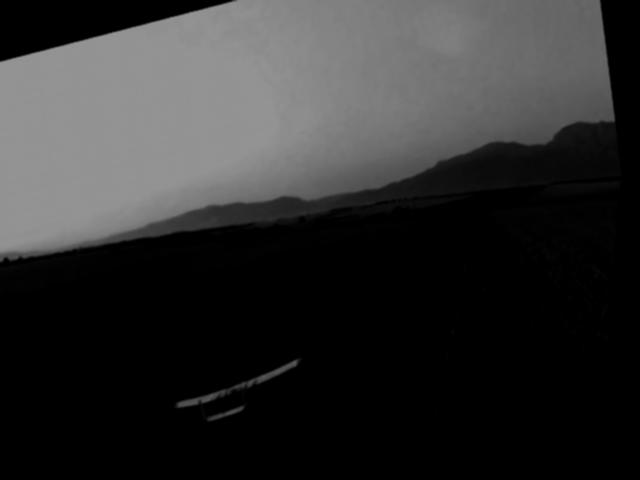hedef: (166, 350, 324, 447)
